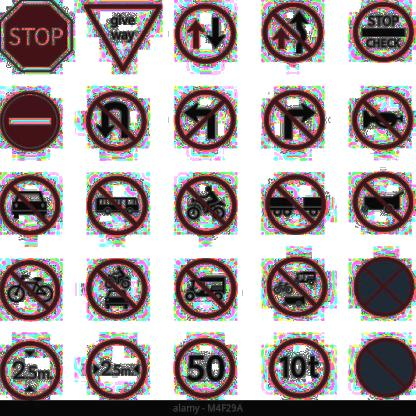No U-turn: (81, 87, 146, 152)
